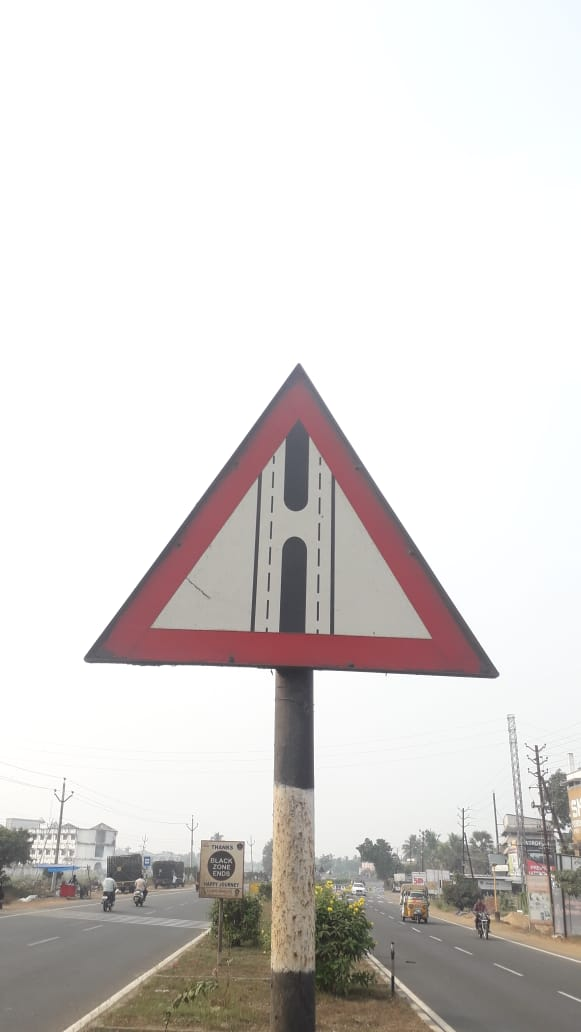highway go straight: (66, 348, 520, 727)
